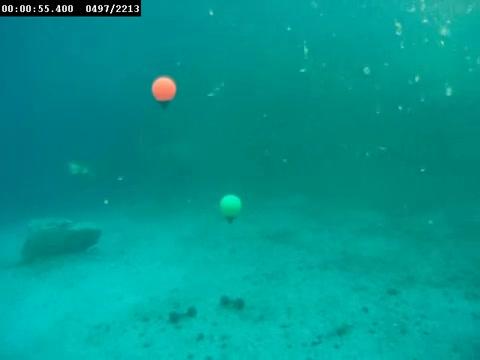buoy_green: (218, 190, 242, 228)
buoy_red: (149, 74, 178, 109)
